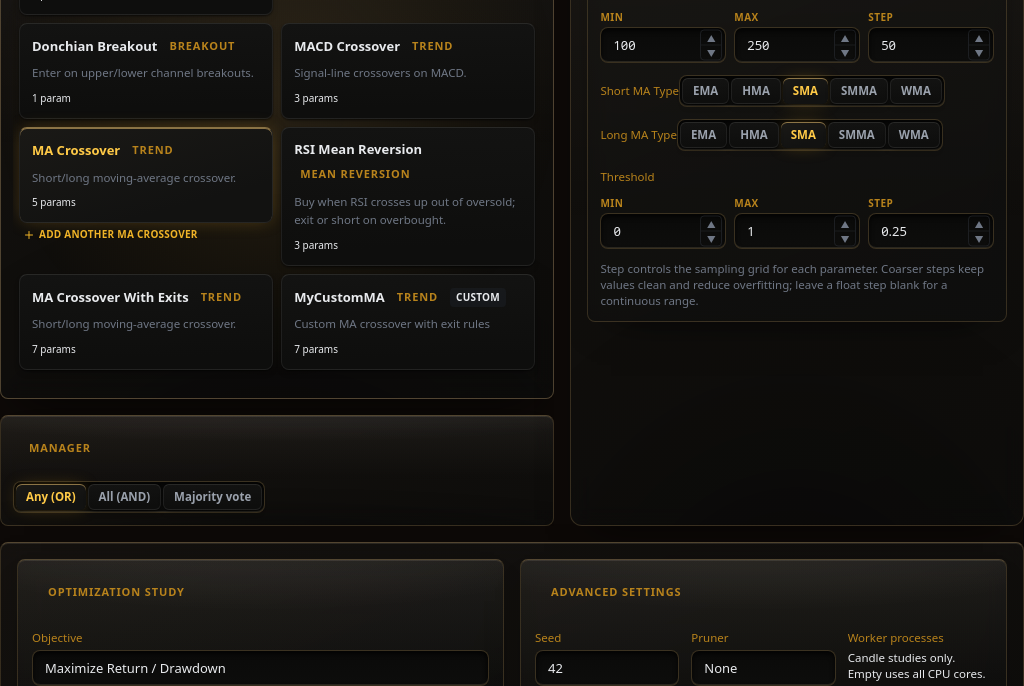
Test: OptimizeSetupPanel multi-entry › adds exit candidate ranges when an exit card is toggled on
(page scrolled)
Click the button "MyCustomMA". click: (408, 322)
box: [281,274,535,370]
(page scrolled)
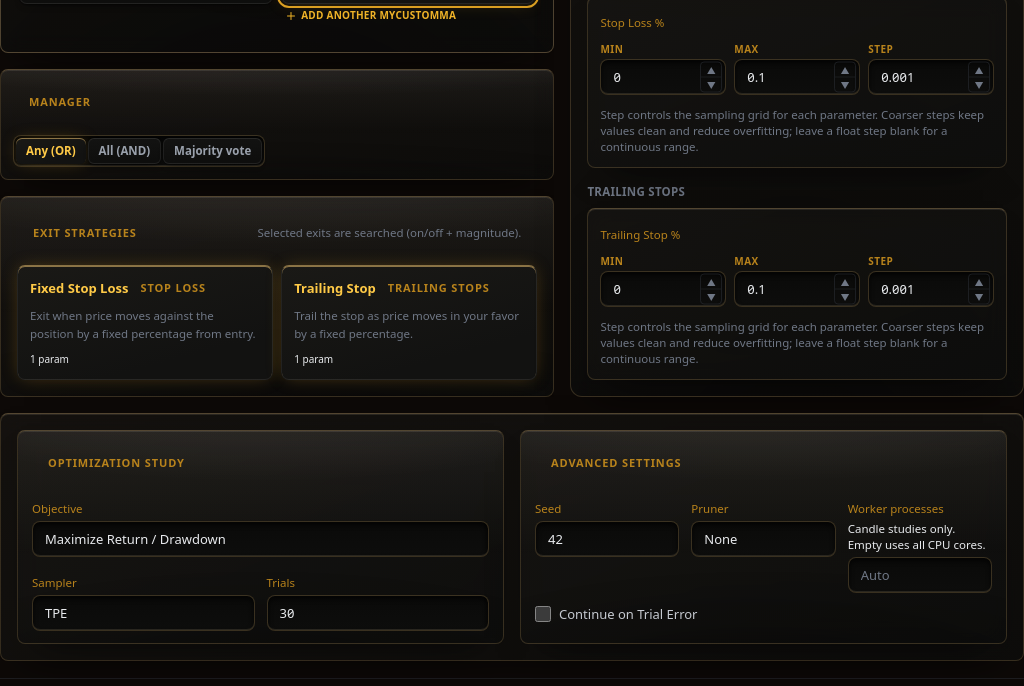
expect the text "Stop Loss %" is shown: met, box [600,15,664,31]
Click the button "Fixed Stop Loss". click: (145, 323)
box: [17,265,273,380]
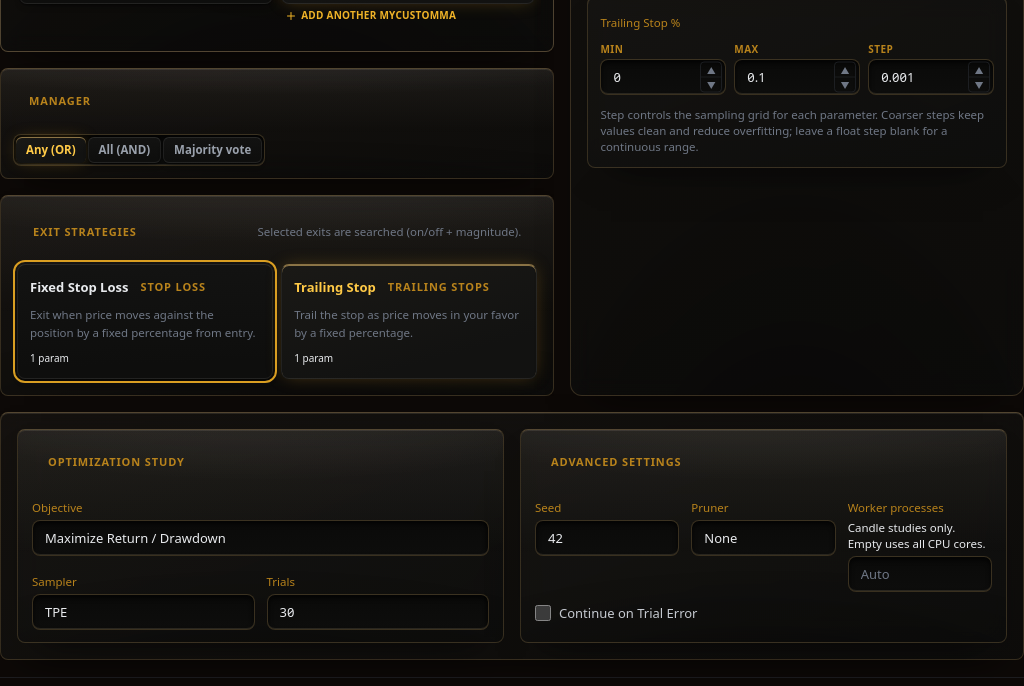
expect the text "Stop Loss %" is gone: met
Click the button "Fixed Stop Loss". click: (145, 322)
box: [17,264,273,379]
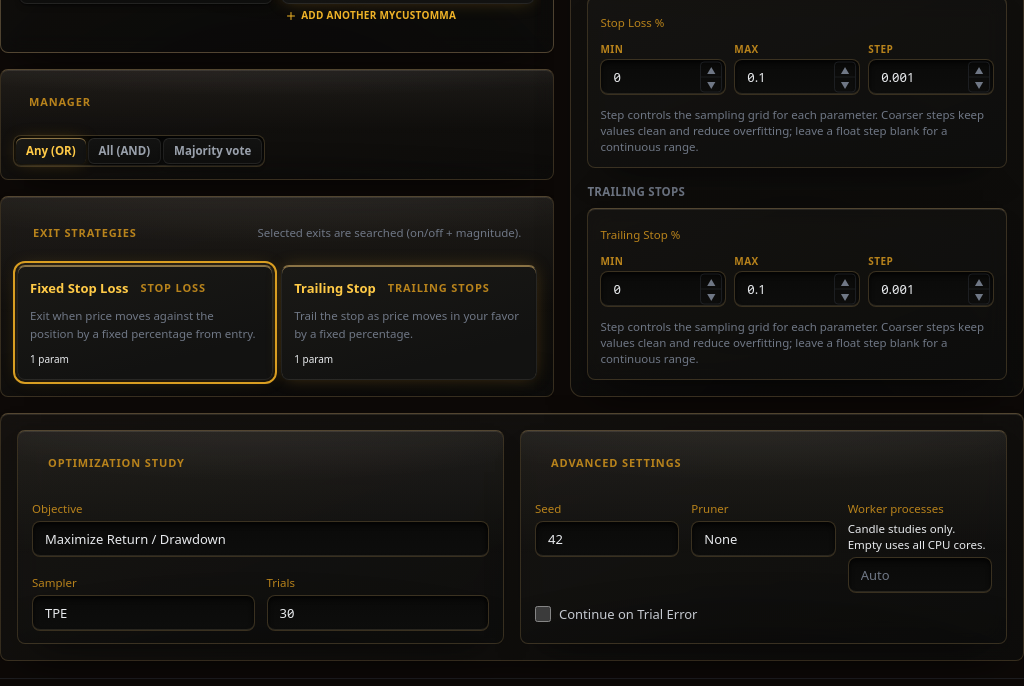
expect the text "Stop Loss %" is shown: met, box [600,15,664,31]
